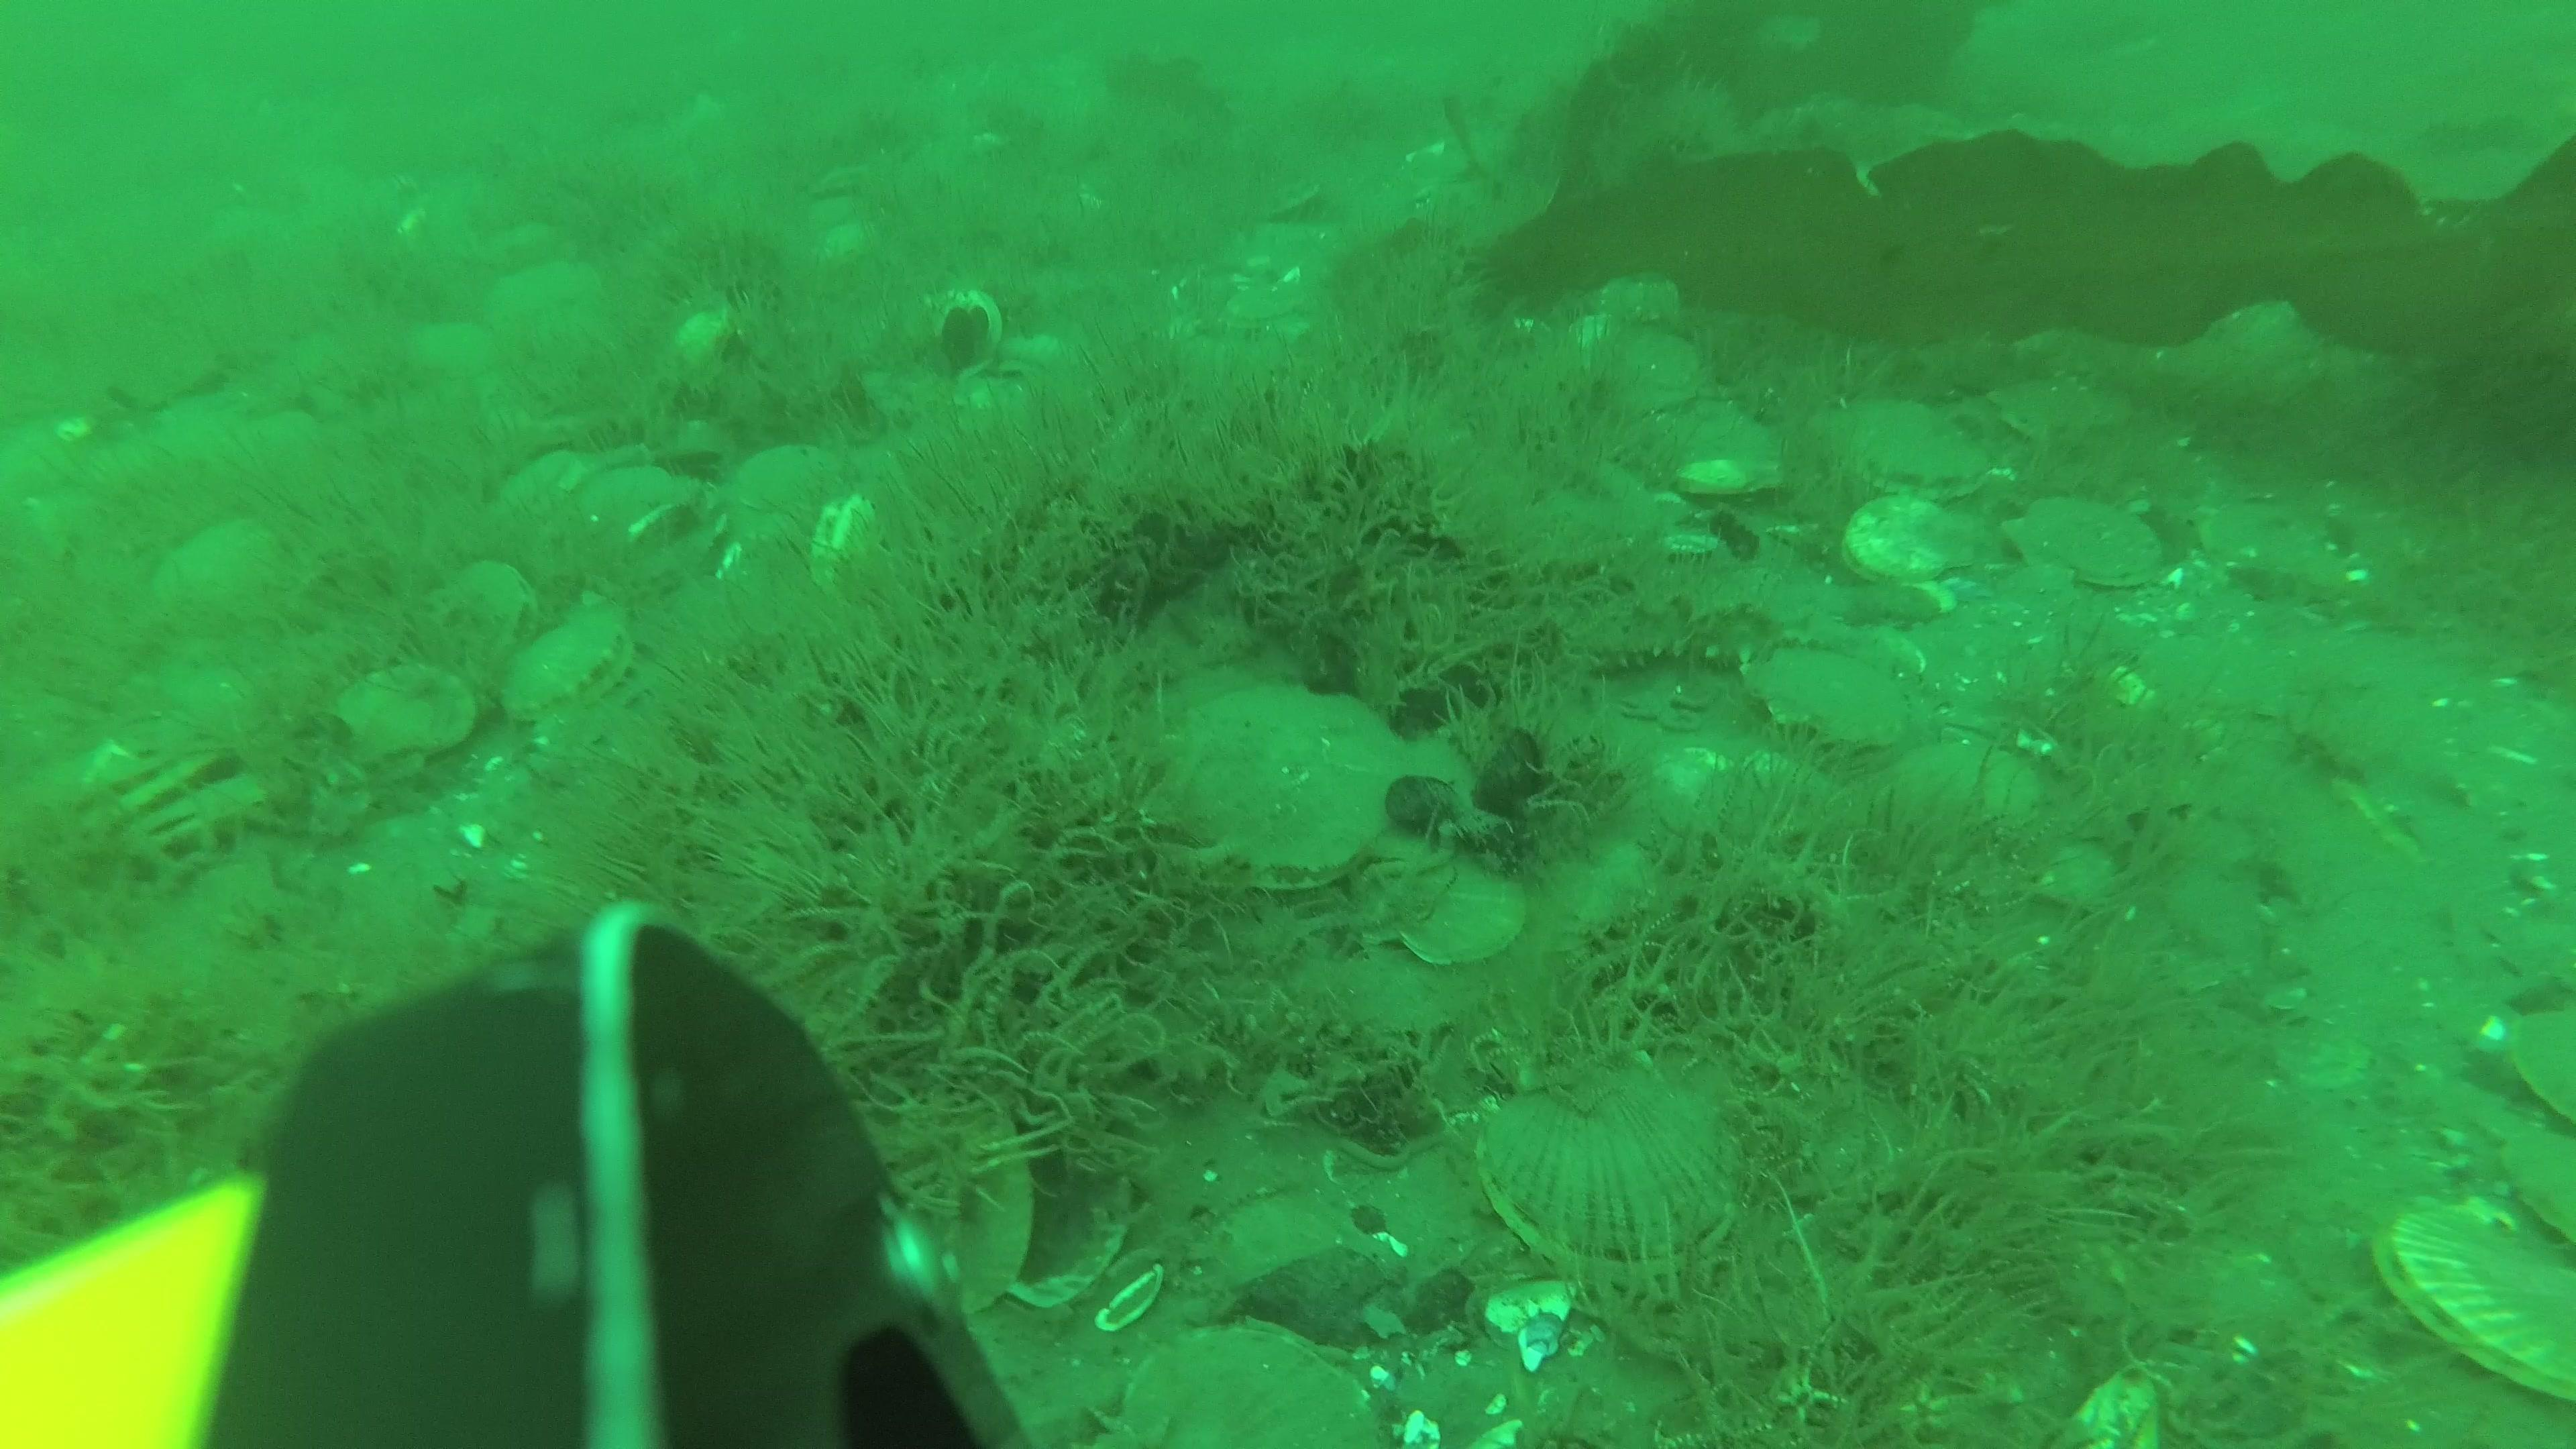scallop: (1162, 667, 1426, 892), (1468, 1069, 1753, 1269), (2383, 1189, 2576, 1405), (872, 1079, 1042, 1309), (1123, 1318, 1380, 1449), (1746, 639, 1913, 763), (2005, 481, 2167, 594), (1898, 740, 2051, 855), (501, 607, 635, 731), (1323, 924, 1467, 1039), (1407, 856, 1530, 982), (138, 777, 280, 885), (341, 669, 483, 777), (1840, 478, 1980, 582), (1851, 400, 1994, 499), (150, 517, 280, 626), (1649, 402, 1780, 502), (1591, 318, 1700, 433), (111, 747, 234, 847), (74, 720, 193, 809), (731, 441, 846, 531), (479, 267, 594, 356), (428, 568, 534, 663), (2509, 1116, 2576, 1249), (2503, 987, 2576, 1109)
